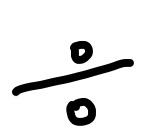div: (10, 40, 135, 128)
